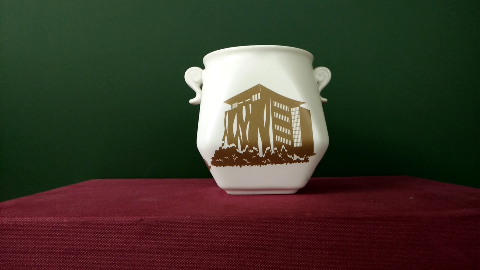library: (220, 90, 307, 162)
